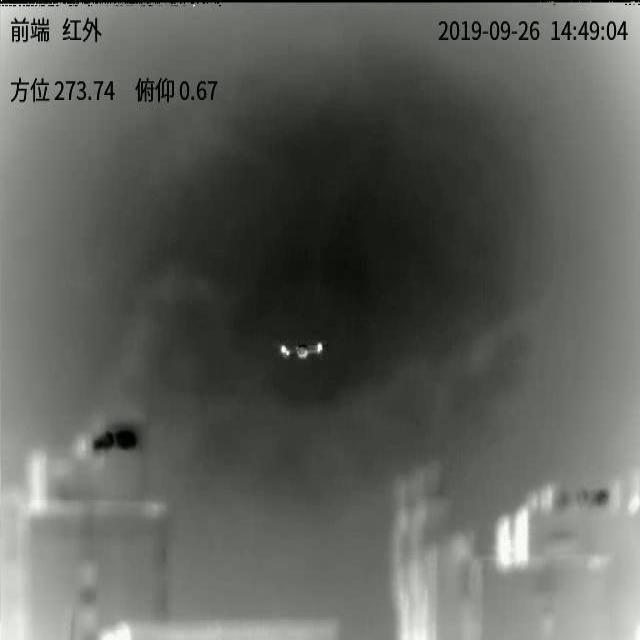drone: (280, 342, 324, 359)
